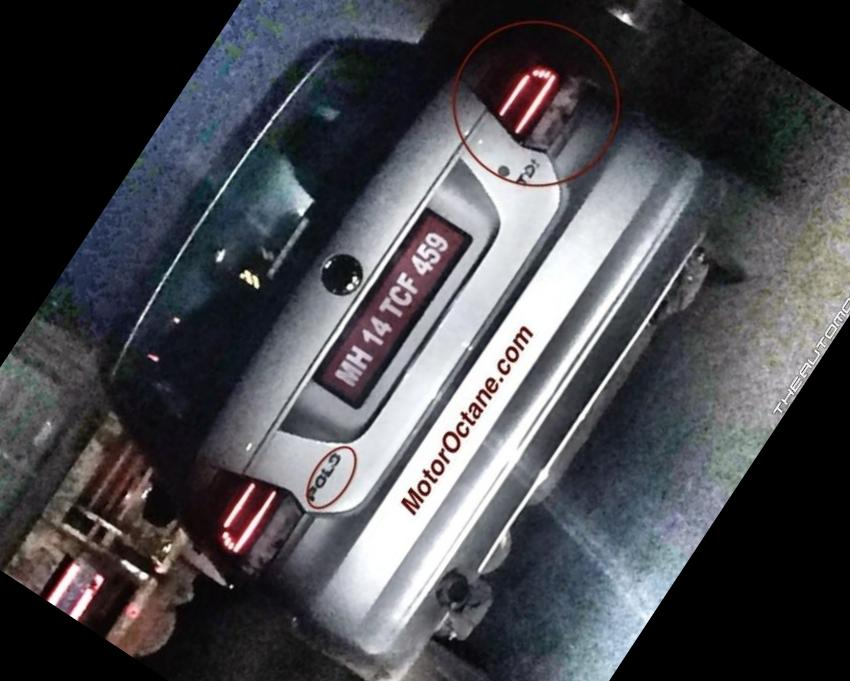plate: (300, 198, 475, 421)
